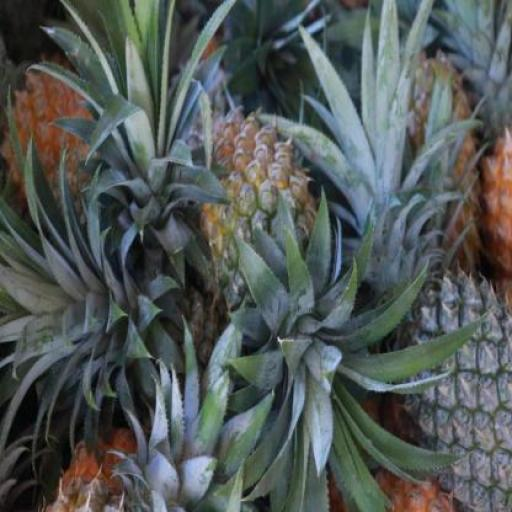------------------------------: (192, 106, 331, 316)
